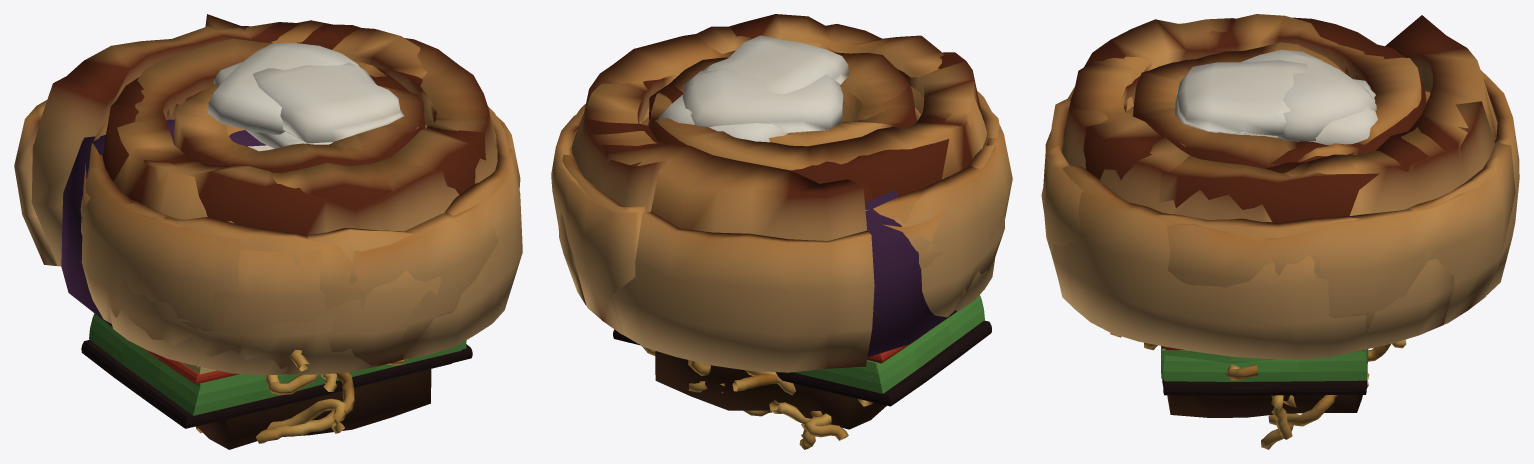
Rendered from toppings.glb.
3 renders of one model, left to right at view 1: azimuth 30°, elevation 25°; view 2: azimuth 150°, elevation 25°; view 3: azimuth 270°, elevation 25°, orthographic. The views are drawn at different scales.
Visible parts, largest first — view 1: cinnamon_0, cinnamon_2, cinnamon_1, rainbow_2, brownie_0, fig_0, kataifi_0, kataifi_2, rainbow_0; view 2: cinnamon_0, cinnamon_2, rainbow_2, fig_0, cinnamon_1, brownie_0, kataifi_2, kataifi_1, kataifi_0; view 3: cinnamon_0, cinnamon_2, cinnamon_1, rainbow_1, brownie_0, kataifi_1, kataifi_2, rainbow_0.
Part boxes in pixels (x1,y1,x2,y2): cinnamon_0: [14, 22, 510, 374]; cinnamon_2: [82, 14, 520, 375]; cinnamon_1: [81, 62, 522, 365]; rainbow_2: [81, 313, 454, 428]; brownie_0: [197, 369, 431, 449]; fig_0: [61, 119, 274, 326]; kataifi_0: [256, 350, 354, 443]; kataifi_2: [266, 373, 337, 395]; rainbow_0: [196, 342, 463, 387]; cinnamon_0: [558, 14, 1012, 372]; cinnamon_2: [551, 24, 1004, 335]; rainbow_2: [734, 295, 991, 406]; fig_0: [865, 190, 956, 356]; cinnamon_1: [558, 26, 994, 311]; brownie_0: [655, 351, 886, 429]; kataifi_2: [641, 345, 848, 449]; kataifi_1: [688, 360, 872, 406]; kataifi_0: [745, 370, 810, 424]; cinnamon_0: [1050, 14, 1519, 294]; cinnamon_2: [1042, 17, 1515, 336]; cinnamon_1: [1041, 50, 1454, 359]; rainbow_1: [1163, 347, 1366, 395]; brownie_0: [1167, 395, 1362, 417]; kataifi_1: [1225, 344, 1390, 439]; kataifi_2: [1261, 395, 1337, 449]; rainbow_0: [1161, 346, 1367, 378].
Size of the model in its own units: 0.02 by 0.0177 by 0.0215.
